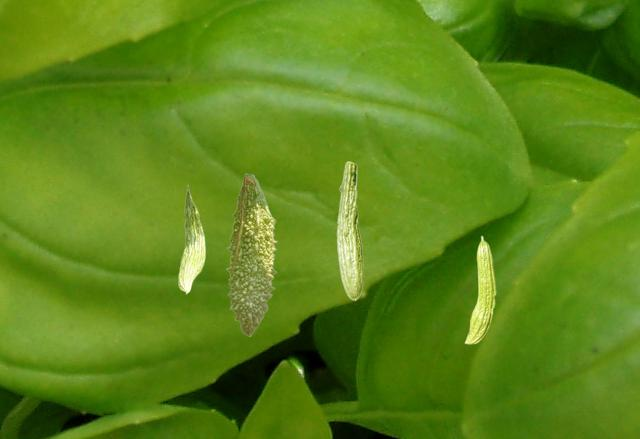ampalaya: (225, 172, 278, 337), (336, 161, 364, 301), (464, 235, 496, 344), (177, 184, 206, 295)
